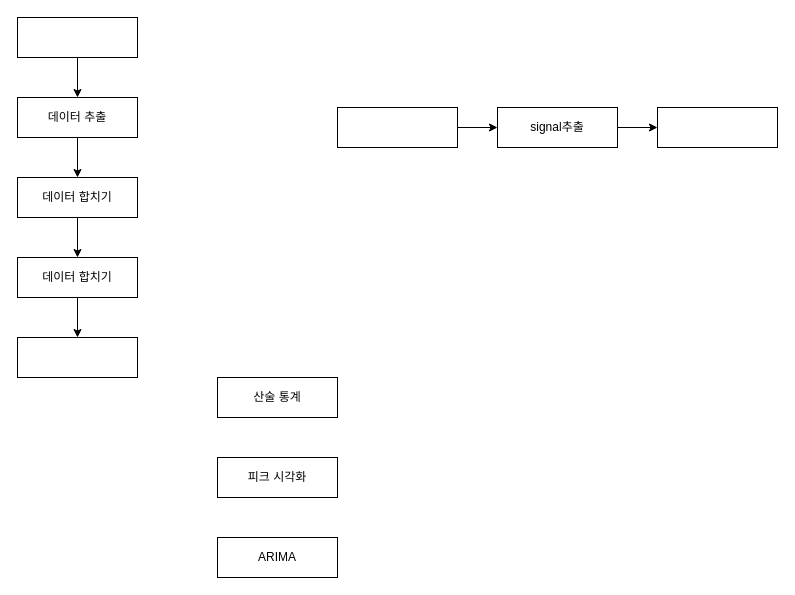
Image size: 795x595. Some labels were removed from this diagram. Here are the shapes that lost their labels. From the top down, the box of each, then its label:
(16, 16, 138, 58): 각자의 데이터
(336, 106, 458, 148): CSV read
(656, 106, 778, 148): 교수님 코드 실행
(16, 336, 138, 378): Up 샘플링
